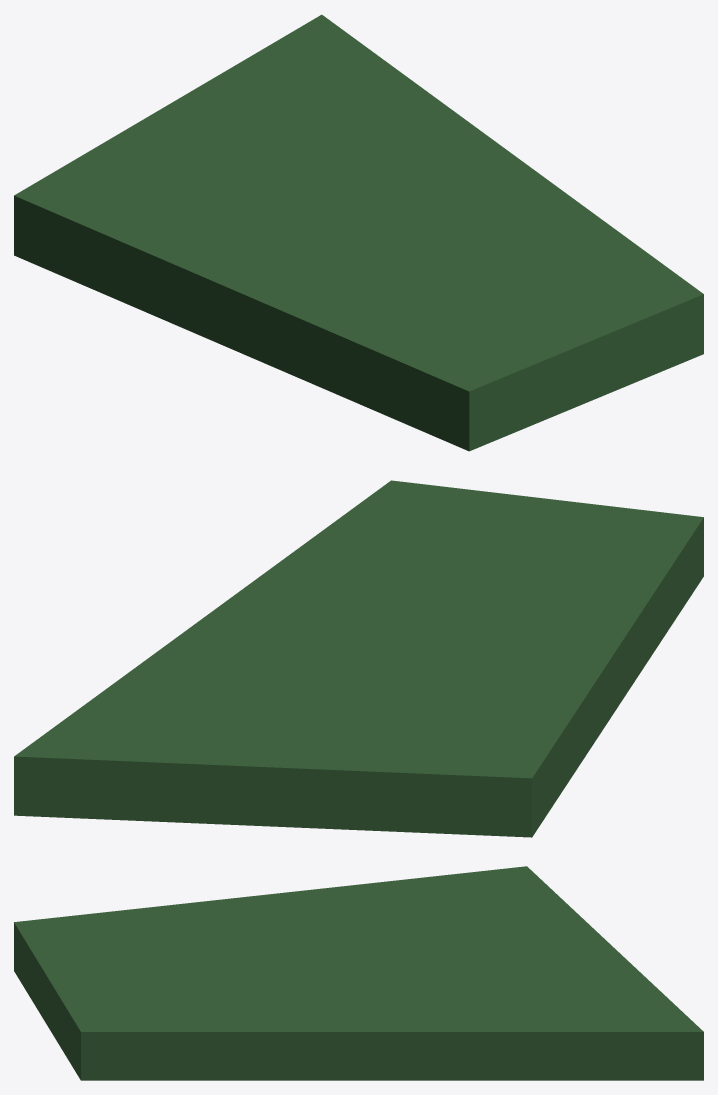
The model's file is x_proval_00_118_1_rmstrd.fbx.
3 renders of one model, top to bottom at view 1: azimuth 30°, elevation 25°; view 2: azimuth 150°, elevation 25°; view 3: azimuth 270°, elevation 25°, orthographic. The views are drawn at different scales.
Visible parts, largest first — view 1: x_proval_00_118_1_rmstrd1; view 2: x_proval_00_118_1_rmstrd1; view 3: x_proval_00_118_1_rmstrd1.
Boxes of the visible parts, x1=… form: x_proval_00_118_1_rmstrd1: x1=14, y1=14, x2=703, y2=451; x_proval_00_118_1_rmstrd1: x1=14, y1=480, x2=703, y2=837; x_proval_00_118_1_rmstrd1: x1=14, y1=866, x2=703, y2=1080.
Bounding box in the file's own units: 1.45 × 0.2 × 2.56.
